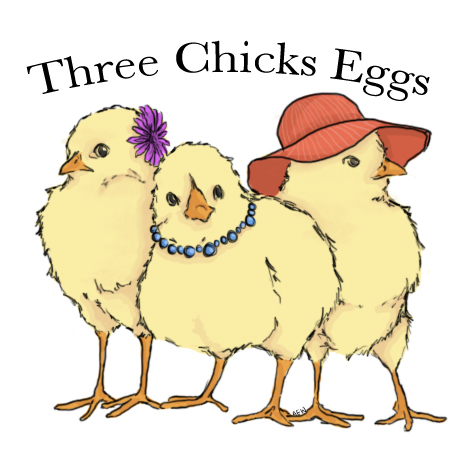bird: (251, 93, 454, 436), (143, 141, 349, 435), (38, 103, 171, 428)
